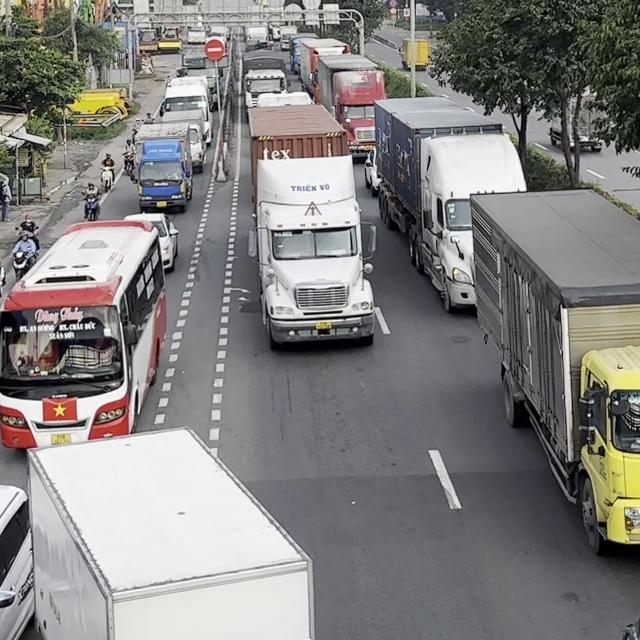bus: (0, 219, 167, 450), (156, 76, 212, 145)
car: (0, 483, 35, 639), (123, 212, 179, 272)
motorcycle: (11, 248, 38, 281), (81, 192, 100, 221), (100, 165, 114, 192), (122, 150, 135, 176)
truck: (469, 186, 639, 555), (25, 425, 316, 639), (372, 95, 527, 313), (247, 104, 377, 348), (311, 53, 387, 160), (132, 121, 191, 213), (241, 50, 291, 115), (296, 37, 352, 95), (161, 111, 206, 174)
